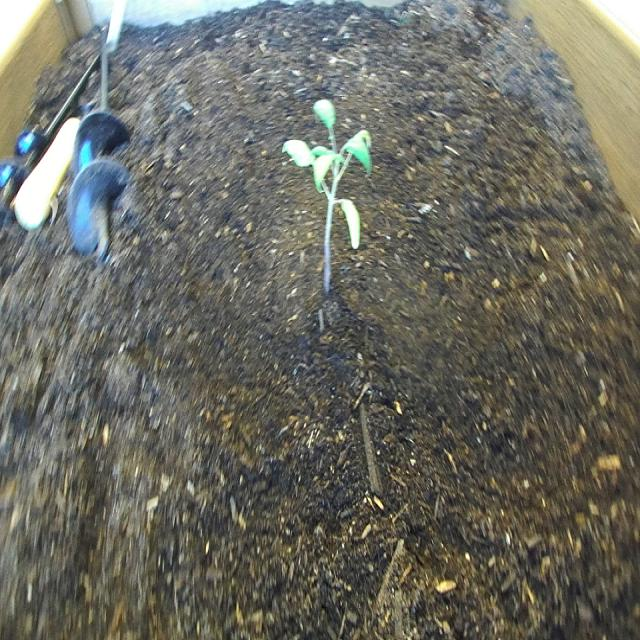Healthy: (280, 90, 378, 300)
